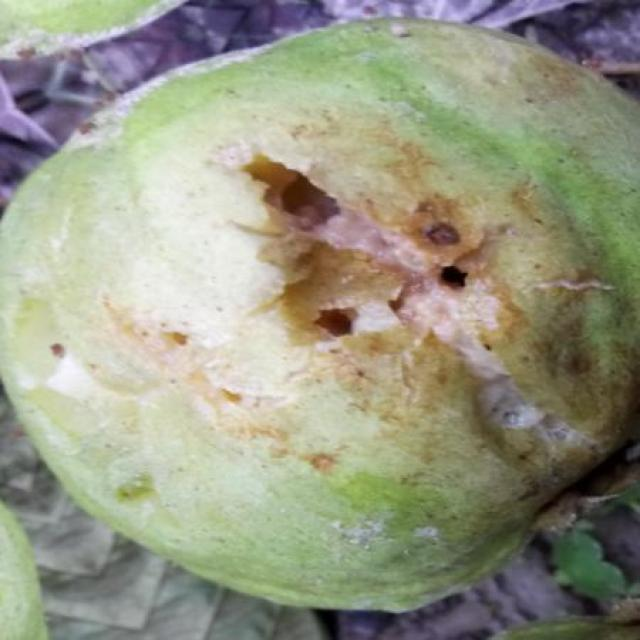Styler and Root: (0, 20, 640, 609)
